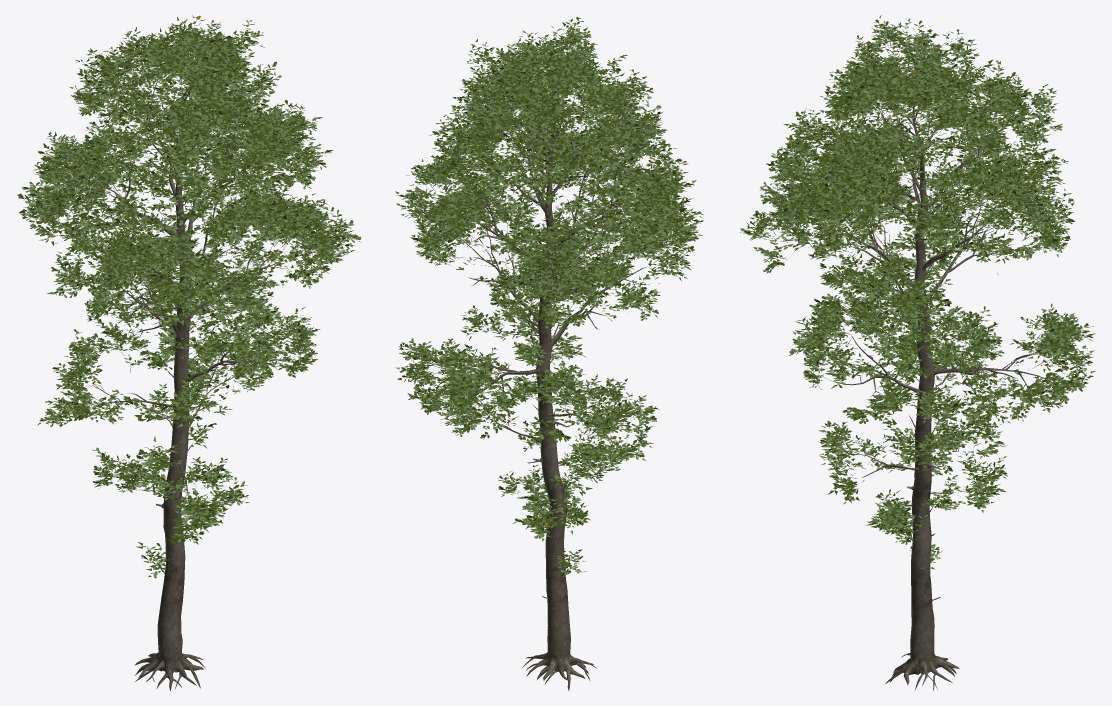
The model's file is quercus-robur-forest-ld-s67.glb.
3 views of the same model, side by side, from view 1: azimuth 30°, elevation 25°; view 2: azimuth 150°, elevation 25°; view 3: azimuth 270°, elevation 25° (orthographic). The views are drawn at different scales.
Parts seen in each view (by area): view 1: ForestPlantCatalog_quercus-robur-forest-ld-s67; view 2: ForestPlantCatalog_quercus-robur-forest-ld-s67; view 3: ForestPlantCatalog_quercus-robur-forest-ld-s67.
Part boxes in pixels (bbox=[...]): ForestPlantCatalog_quercus-robur-forest-ld-s67: bbox=[17, 15, 361, 690]; ForestPlantCatalog_quercus-robur-forest-ld-s67: bbox=[395, 17, 703, 690]; ForestPlantCatalog_quercus-robur-forest-ld-s67: bbox=[740, 15, 1095, 690].
Size of the model in its own units: 7.59 by 16 by 7.87.
Materials: 13 (13 with a texture image).
